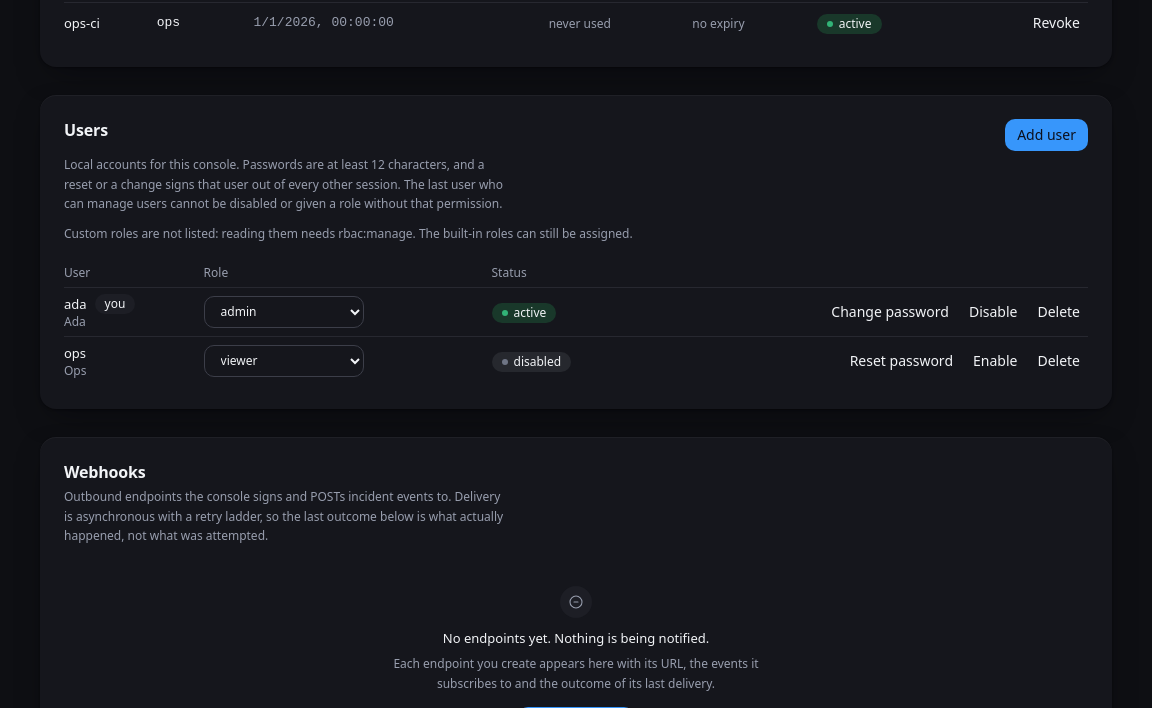
Test: users section gating › re-reads the tokens when a re-enable fails after revoking them
This screenshot has width=1152, height=708.
(page scrolled)
Expected: the text "active" is shown, [817,14,882,34]
Click the button with aria-label "Enable ops" at (995, 361), box [965,347,1025,375]
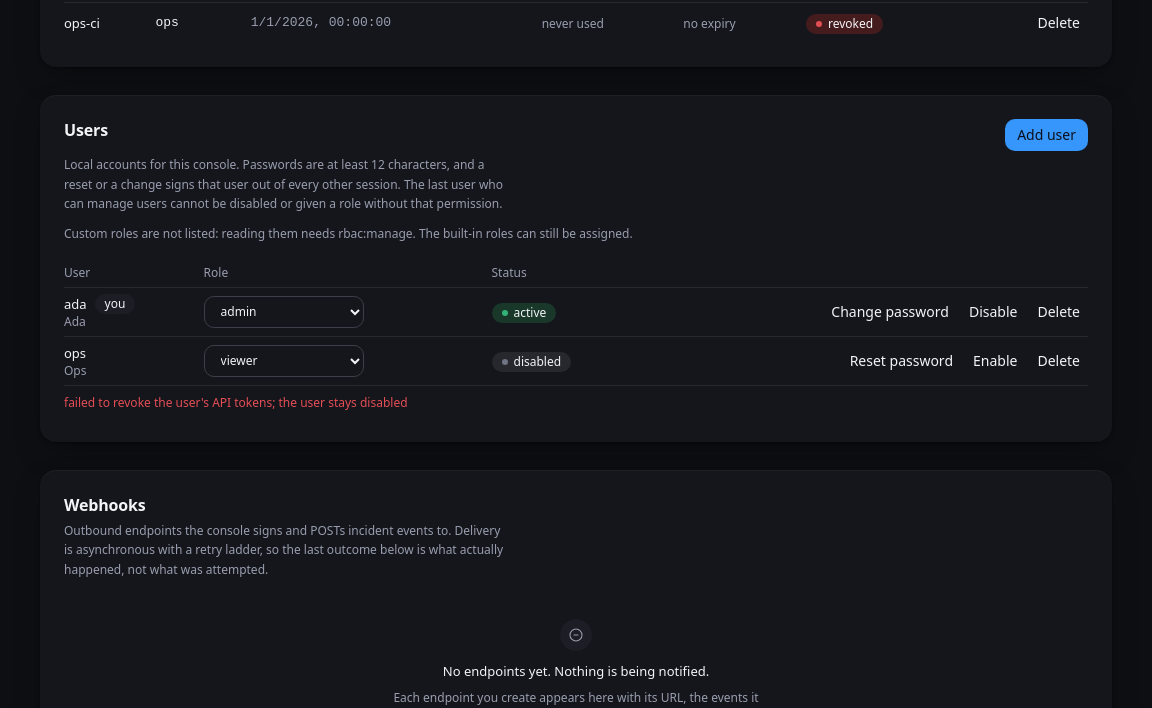
Expected: the text "failed to revoke the user's API tokens; the user stays disabled" is shown, [64,394,408,411]
Expected: the text "revoked" is shown, [806,14,883,34]
